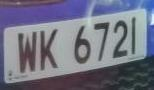1: (127, 13, 142, 56)
2: (110, 16, 131, 59)
6: (68, 23, 95, 65)
7: (92, 18, 110, 64)
K: (38, 25, 62, 76)
W: (14, 27, 40, 78)
